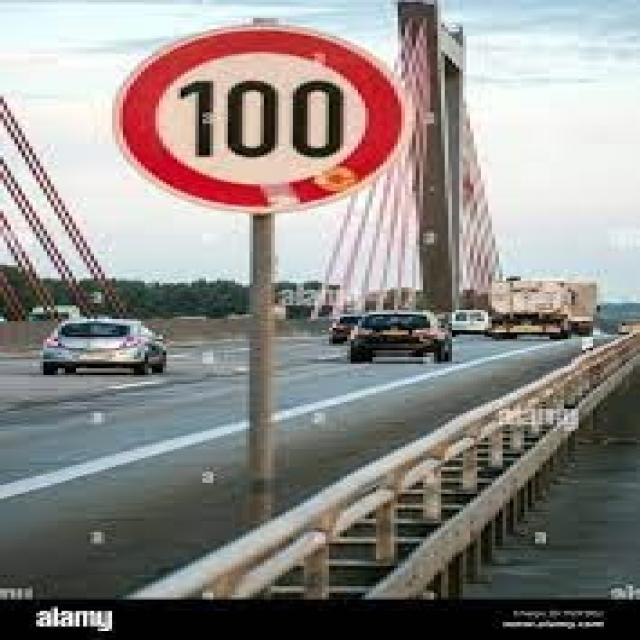speed_limit_100: (105, 23, 419, 217)
